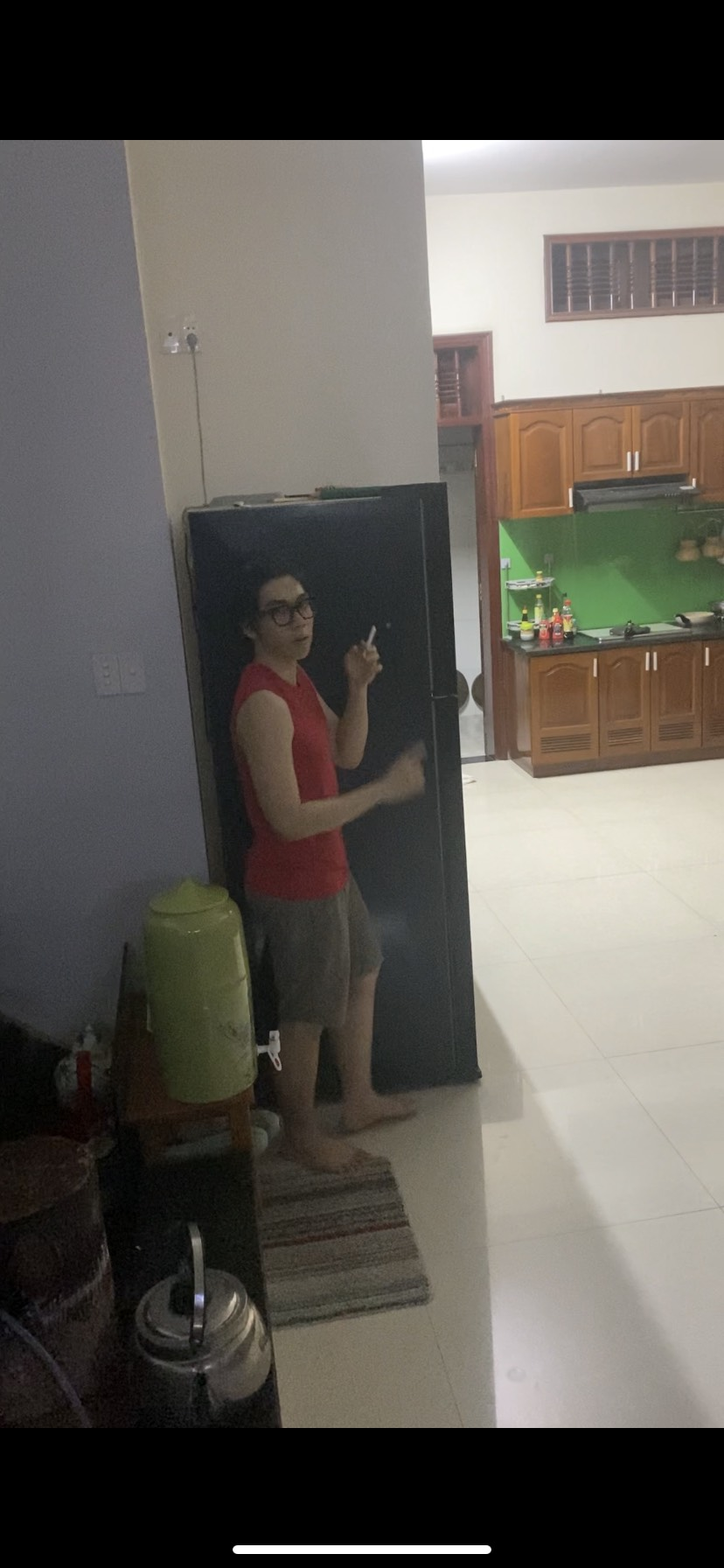cigarette: (363, 620, 382, 647)
person: (227, 519, 441, 1145)
